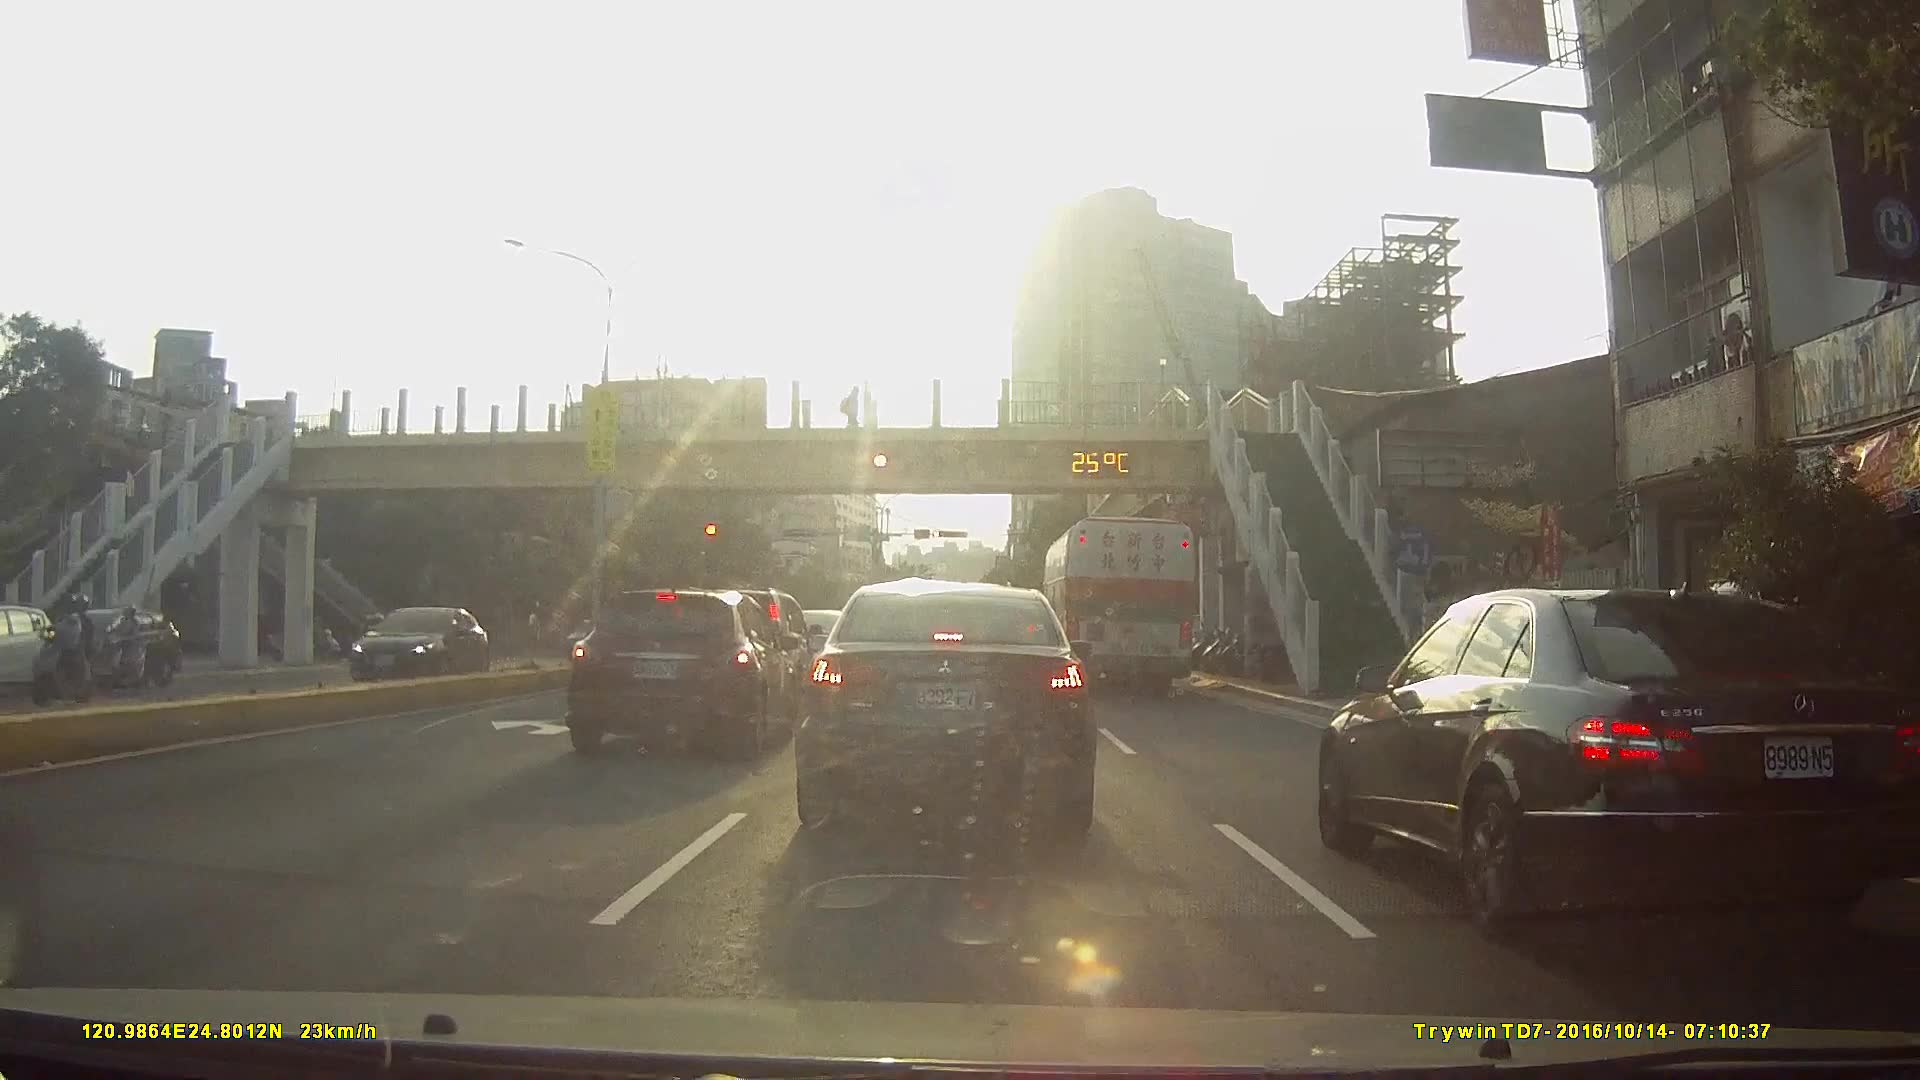pedestrian: (839, 386, 861, 434)
rider: (23, 591, 96, 712), (88, 605, 152, 699)
vehicle: (1309, 588, 1920, 927), (792, 579, 1097, 835), (560, 584, 802, 760), (1039, 515, 1200, 699), (332, 606, 485, 683), (44, 606, 179, 689), (0, 603, 56, 705)
